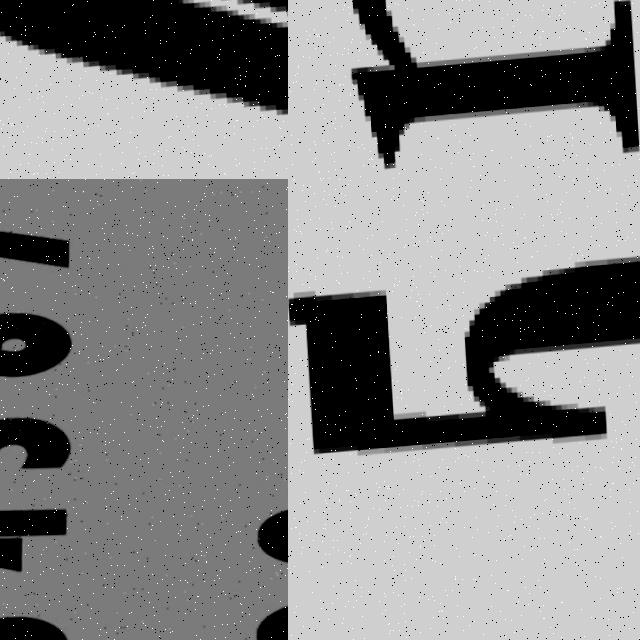0: (209, 486, 288, 591)
3: (0, 597, 83, 640)
4: (0, 492, 78, 591)
5: (288, 238, 640, 483), (0, 394, 87, 489)
6: (0, 0, 288, 174), (0, 293, 91, 400)
7: (0, 200, 100, 299)
M: (310, 0, 640, 179)
